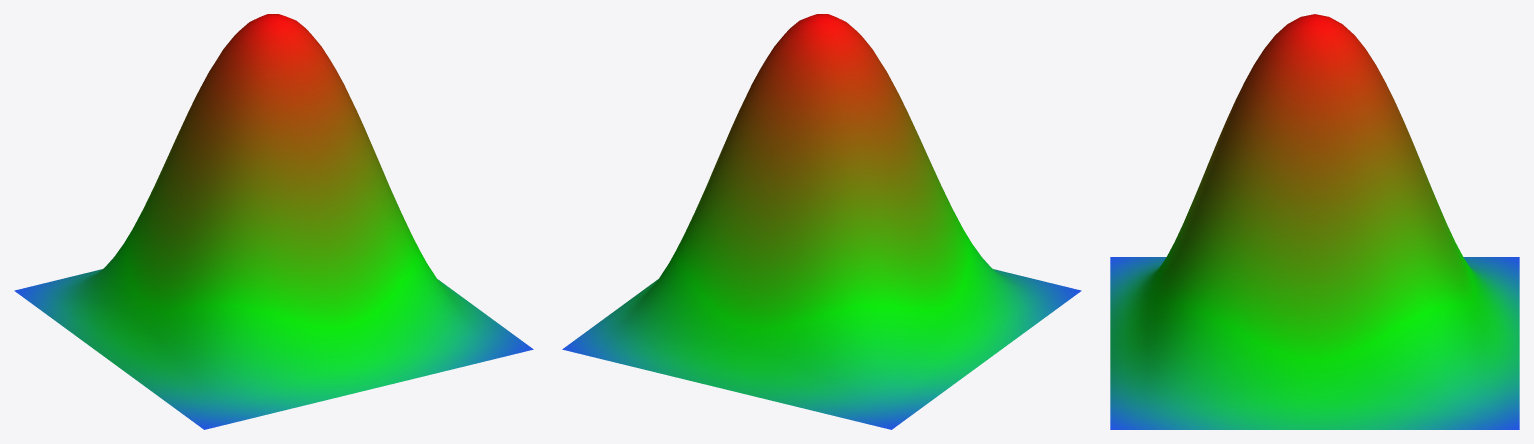
File: homole.obj
3 renders of one model, left to right at view 1: azimuth 30°, elevation 25°; view 2: azimuth 150°, elevation 25°; view 3: azimuth 270°, elevation 25°, orthographic. The views are drawn at different scales.
Visible parts, largest first — view 1: nurbsToPoly1; view 2: nurbsToPoly1; view 3: nurbsToPoly1.
Boxes of the visible parts, left/top/right/bottom form: nurbsToPoly1: left=14, top=14, right=533, bottom=429; nurbsToPoly1: left=562, top=14, right=1081, bottom=429; nurbsToPoly1: left=1110, top=14, right=1519, bottom=429.
Bounding box in the file's own units: 19.83 × 17.46 × 19.83.
1 material, 1 textured.
